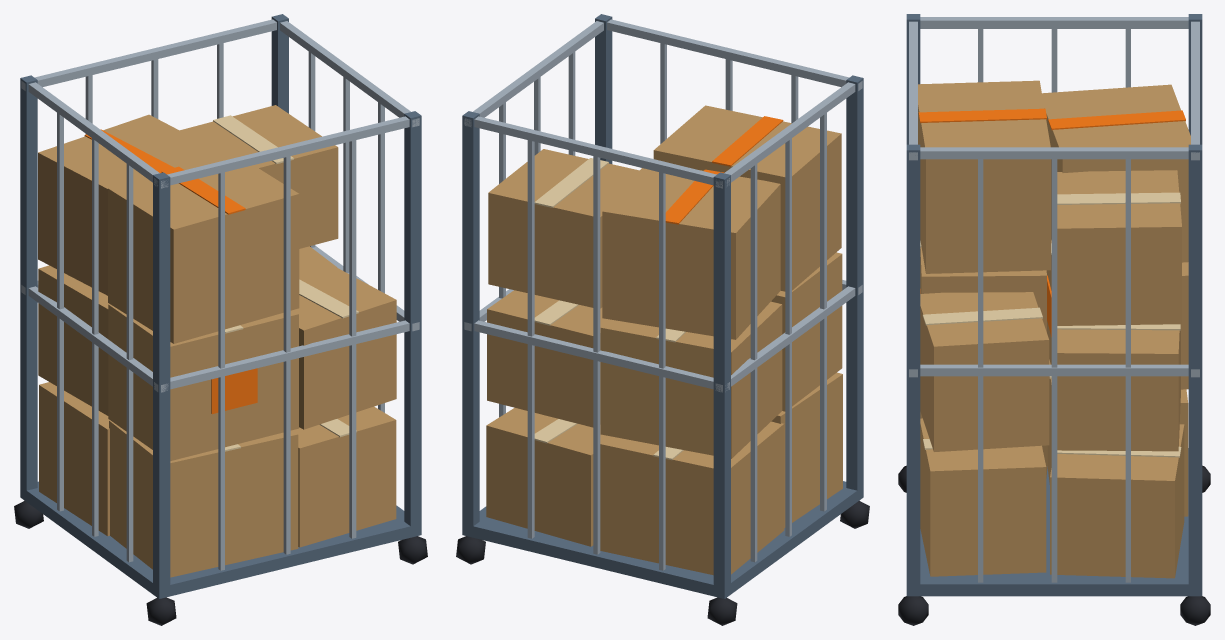
Rendered from station_transport_ausstattung_1_2.glb.
3 renders of one model, left to right at view 1: azimuth 30°, elevation 25°; view 2: azimuth 150°, elevation 25°; view 3: azimuth 270°, elevation 25°, orthographic. The views are drawn at different scales.
Visible parts, largest first — view 1: station_transport_ausstattung_1_2; view 2: station_transport_ausstattung_1_2; view 3: station_transport_ausstattung_1_2.
Part boxes in pixels (x1=…): station_transport_ausstattung_1_2: x1=14, y1=14, x2=427, y2=625; station_transport_ausstattung_1_2: x1=456, y1=14, x2=869, y2=625; station_transport_ausstattung_1_2: x1=898, y1=14, x2=1210, y2=625.
Size of the model in its own units: 0.7616 by 1.18 by 0.6981.
